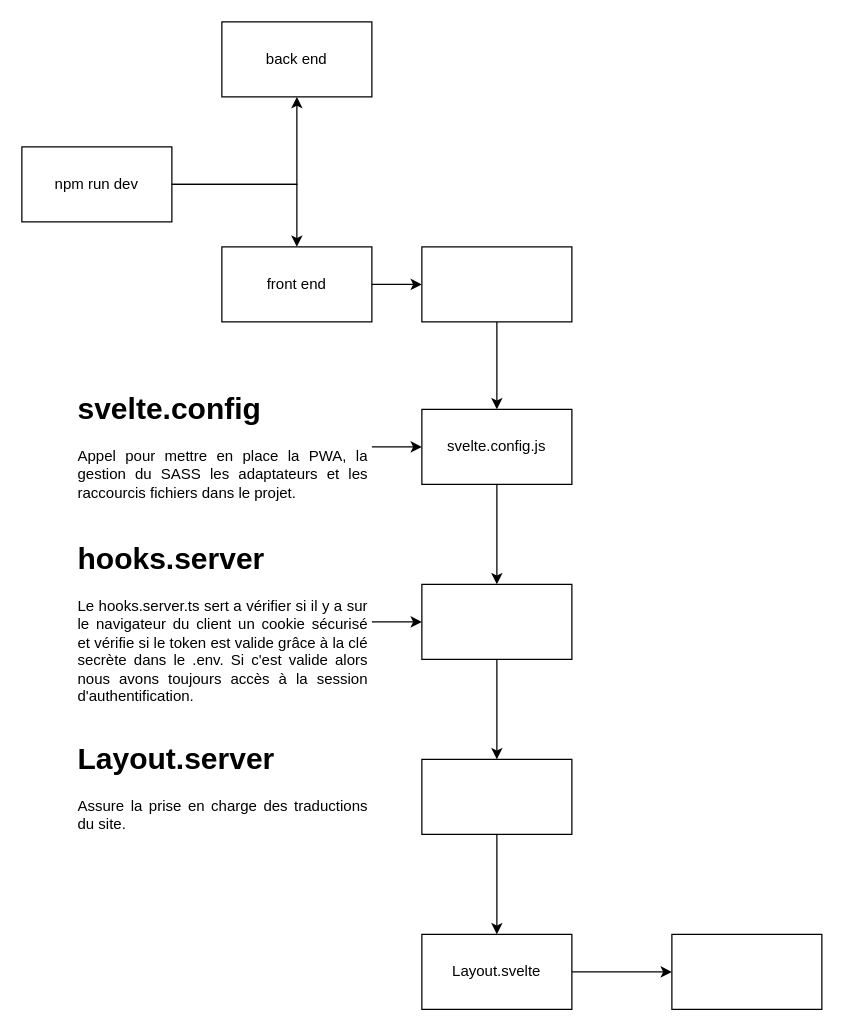
This 844x1031 diagram has some shape labels left out. The centre of each missing label's shape, as x and y in pixels:
"démarrage du front end" belongs at [496,284].
"hooks.server.ts" belongs at [496,621].
"Layout.server.ts" belongs at [496,796].
